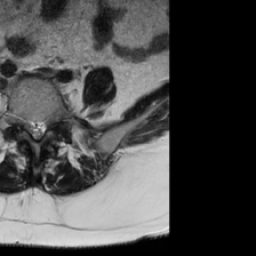CCS_normal: (33, 112, 40, 147)
LFS_normal: (47, 104, 56, 133)
LLS_normal: (40, 111, 47, 142)
RFS_normal: (18, 107, 26, 136)
RLS_normal: (26, 110, 33, 143)
